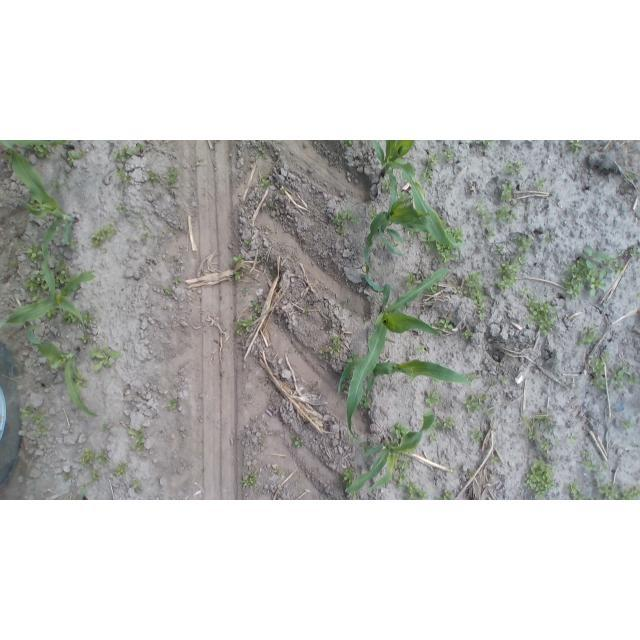Maize: (345, 262, 449, 443), (2, 142, 79, 301), (372, 140, 461, 250), (364, 194, 450, 294), (343, 407, 437, 497), (25, 323, 100, 417), (2, 253, 95, 328), (335, 360, 470, 404), (7, 140, 77, 150), (75, 489, 88, 500)
Weeds: (563, 247, 610, 300), (397, 461, 430, 500), (527, 299, 558, 336), (526, 461, 555, 498), (465, 274, 488, 319), (588, 349, 611, 392), (521, 413, 557, 439), (21, 406, 46, 437), (91, 346, 121, 371), (436, 227, 463, 253), (612, 362, 636, 391), (597, 483, 639, 499), (91, 226, 117, 247), (577, 323, 601, 345), (26, 274, 46, 299), (116, 144, 146, 160), (321, 336, 342, 358), (495, 206, 518, 225), (55, 257, 69, 288), (128, 428, 146, 451), (567, 481, 589, 499), (464, 395, 486, 413), (233, 255, 247, 281), (389, 422, 409, 440), (66, 150, 87, 167), (236, 318, 256, 335), (165, 167, 179, 189), (515, 236, 534, 252), (581, 449, 594, 472), (33, 144, 54, 158), (241, 472, 258, 489), (498, 276, 517, 291), (81, 448, 96, 466), (333, 211, 352, 225), (419, 233, 433, 251), (27, 245, 41, 263), (117, 166, 132, 182), (476, 202, 489, 220), (504, 161, 520, 175), (438, 318, 455, 331), (426, 391, 440, 406), (425, 159, 434, 182), (250, 300, 262, 317), (501, 183, 513, 200), (114, 463, 128, 477), (469, 429, 483, 443), (568, 141, 583, 154), (441, 417, 456, 430), (76, 373, 88, 389), (502, 262, 518, 274), (624, 172, 638, 185), (540, 438, 552, 453), (342, 468, 354, 483), (463, 371, 479, 382), (484, 223, 495, 239), (440, 250, 453, 263), (98, 452, 111, 465), (148, 171, 160, 185), (612, 260, 625, 272), (625, 246, 637, 259), (381, 178, 392, 192), (62, 311, 74, 323), (537, 178, 548, 191), (405, 274, 416, 287), (445, 148, 455, 162), (132, 480, 144, 491), (397, 190, 410, 200), (83, 313, 93, 326), (169, 399, 179, 412), (442, 489, 455, 499), (474, 140, 495, 146), (50, 179, 61, 190), (293, 437, 304, 448), (116, 202, 127, 212), (348, 352, 359, 362), (622, 418, 632, 429), (360, 396, 369, 408), (544, 234, 553, 245), (141, 231, 150, 242), (520, 286, 529, 297), (341, 140, 353, 148), (91, 470, 100, 480), (359, 442, 369, 451), (239, 288, 249, 297), (262, 177, 271, 187), (102, 421, 111, 431), (62, 473, 72, 482), (430, 155, 440, 164), (489, 456, 499, 465), (517, 254, 526, 264), (47, 310, 58, 318), (269, 199, 277, 210), (464, 330, 473, 339), (244, 238, 253, 247), (428, 433, 436, 443), (268, 268, 276, 278), (164, 287, 172, 297), (172, 278, 180, 287), (257, 146, 265, 155), (369, 210, 377, 219), (337, 226, 345, 235), (82, 334, 89, 344), (567, 433, 578, 439), (430, 379, 439, 386), (70, 241, 79, 248), (417, 347, 426, 354), (498, 245, 505, 254), (489, 378, 496, 386), (449, 466, 457, 473), (501, 376, 509, 383), (467, 469, 474, 477), (218, 370, 224, 379), (8, 247, 16, 253), (10, 259, 16, 266), (259, 439, 264, 445), (275, 468, 280, 474)
